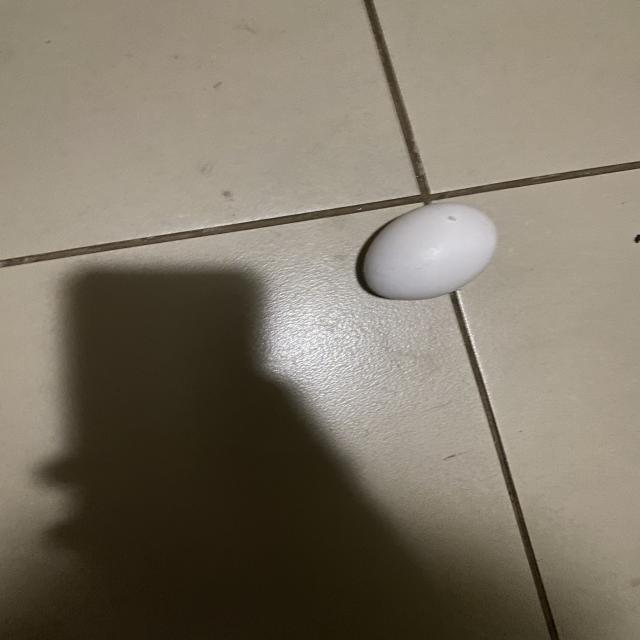egg: (352, 196, 504, 302)
